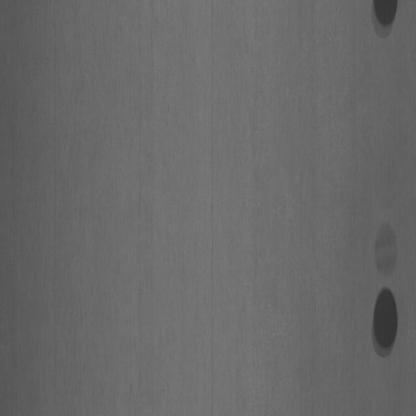oil_spot: (364, 287, 403, 358), (370, 218, 402, 276), (365, 0, 403, 41)
